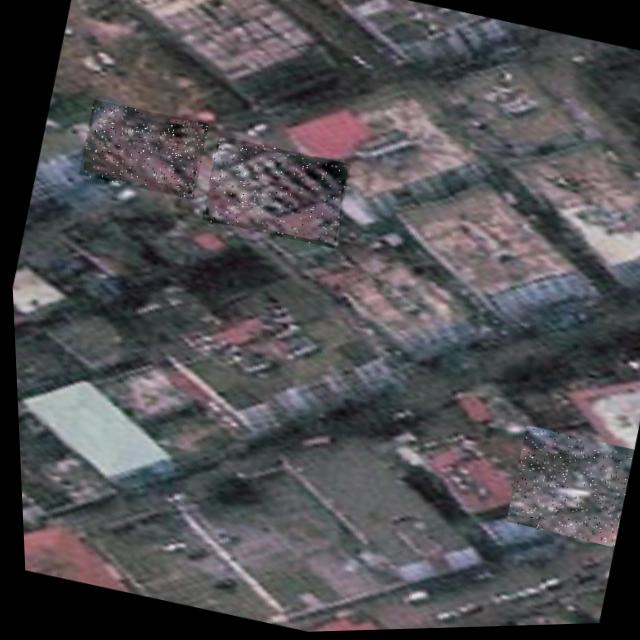Rubble: (195, 134, 351, 253), (496, 426, 633, 552), (73, 97, 209, 203)
